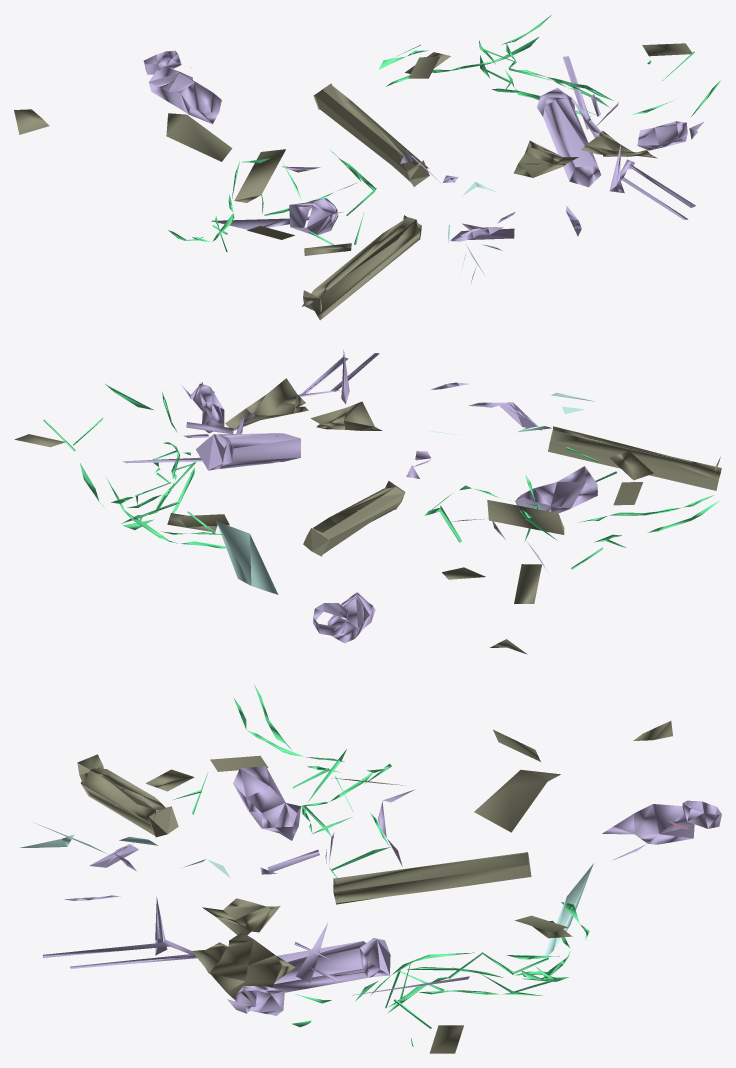
File: debris_b_lod5.glb
3 views of the same model, one above another, from view 1: azimuth 30°, elevation 25°; view 2: azimuth 150°, elevation 25°; view 3: azimuth 270°, elevation 25° (orthographic). The views are drawn at different scales.
Size of the model in its own units: 32.9 by 4.62 by 28.84.
